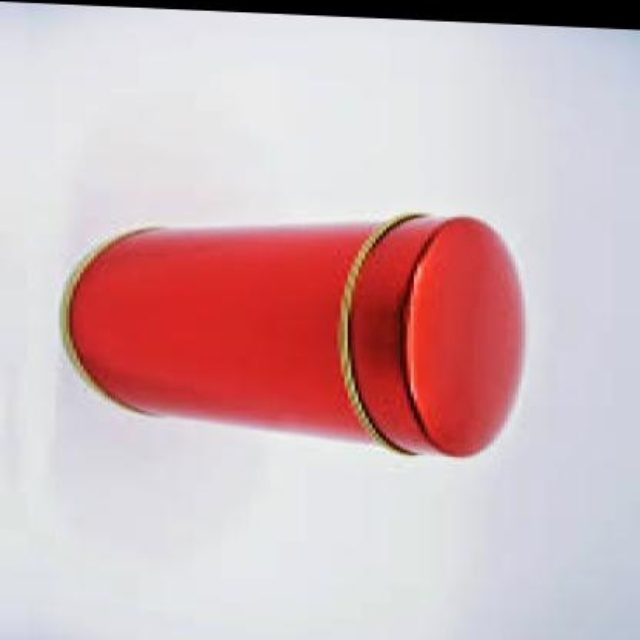trash: (63, 214, 522, 455)
